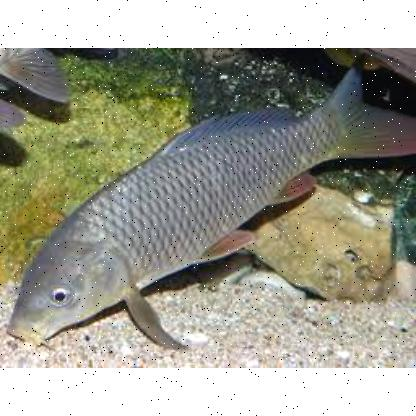ikan-mas: (6, 63, 416, 352)
